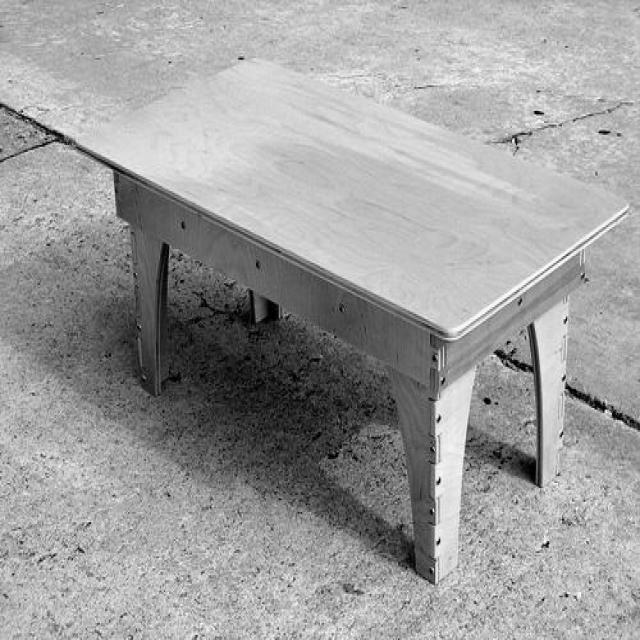table: (86, 54, 627, 584)
